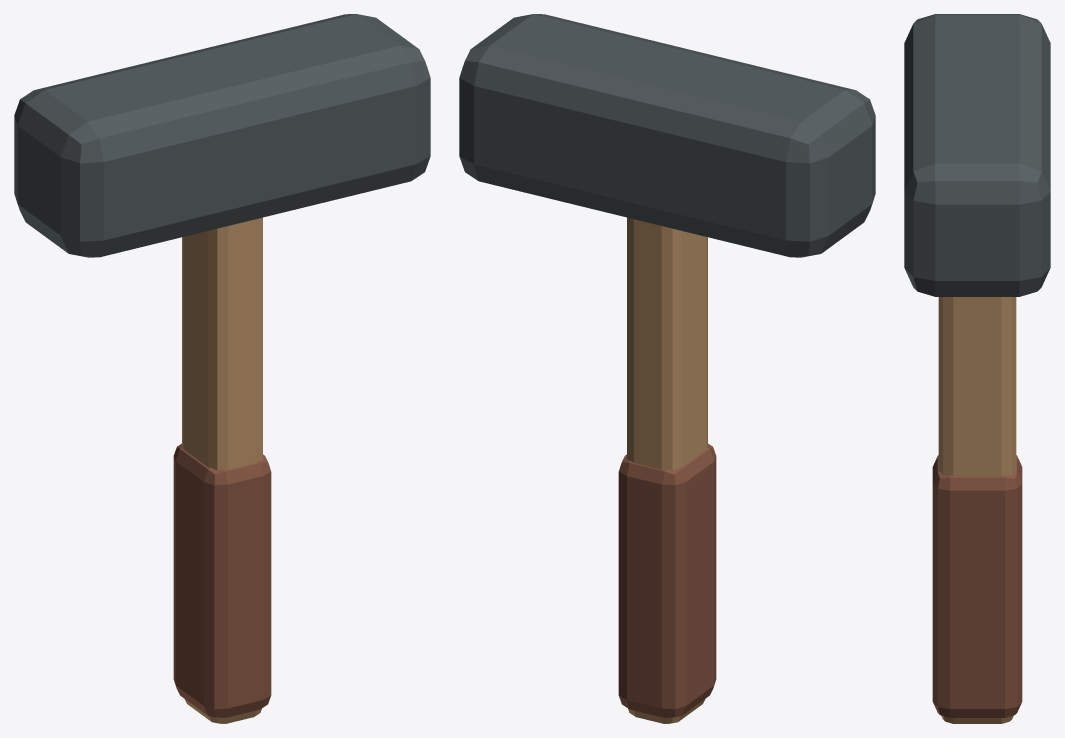
The model's file is tool_carpenter_hammer.glb.
The picture shows the model from 3 angles, left to right: view 1: azimuth 30°, elevation 25°; view 2: azimuth 150°, elevation 25°; view 3: azimuth 270°, elevation 25°; orthographic projection. The views are drawn at different scales.
Parts seen in each view (by area): view 1: tool_carpenter_hammer; view 2: tool_carpenter_hammer; view 3: tool_carpenter_hammer.
Boxes of the visible parts, left/top/right/bottom form: tool_carpenter_hammer: left=14, top=14, right=430, bottom=723; tool_carpenter_hammer: left=459, top=14, right=875, bottom=723; tool_carpenter_hammer: left=904, top=14, right=1050, bottom=723.
Bounding box in the file's own units: 0.24 × 0.4025 × 0.085.
